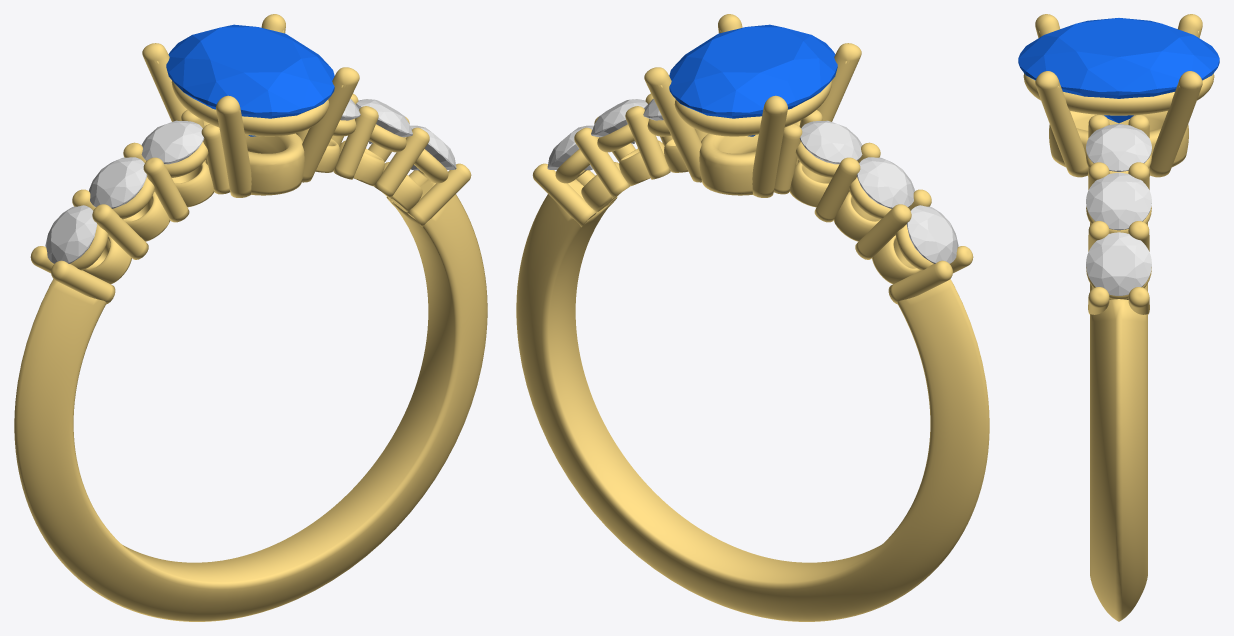
Rendered from bluesapphire-oval-yellowgold-4prong-knifeedge-7stone.glb.
3 renders of one model, left to right at view 1: azimuth 30°, elevation 25°; view 2: azimuth 150°, elevation 25°; view 3: azimuth 270°, elevation 25°, orthographic.
Parts seen in each view (by area): view 1: metal, stone, side, side.001, side.002, side.004, side.003; view 2: metal, stone, side, side.001, side.002, side.004, side.003; view 3: metal, stone, side.003, side.004, side.005.
Boxes of the visible parts, x1,y1,x2,y2 form: metal: (14, 14, 487, 621); stone: (166, 24, 334, 136); side: (45, 205, 97, 263); side.001: (89, 157, 147, 208); side.002: (141, 120, 204, 164); side.004: (356, 99, 412, 143); side.003: (410, 125, 456, 170); metal: (516, 14, 989, 621); stone: (669, 24, 837, 136); side: (906, 205, 958, 263); side.001: (856, 157, 914, 208); side.002: (799, 120, 862, 164); side.004: (591, 99, 647, 143); side.003: (547, 125, 593, 170); metal: (1023, 14, 1214, 621); stone: (1018, 18, 1219, 123); side.003: (1086, 232, 1151, 295); side.004: (1086, 172, 1151, 230); side.005: (1086, 124, 1151, 171).
Bounding box in the file's own units: 20.5 × 23.4 × 7.64.
